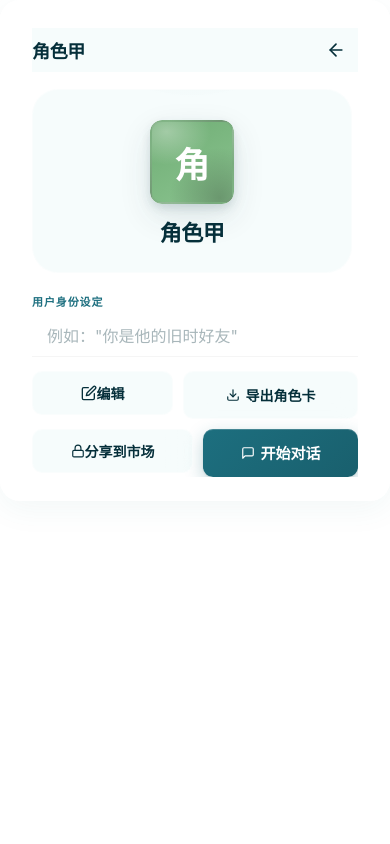
105：发布失败的文案要落到弹窗里 › 接口抛错（403）：显示 detail，弹窗仍在，没变成「已发布」
Click the button with id "card-share-btn".
click(112, 450)  # box [32,428,193,472]
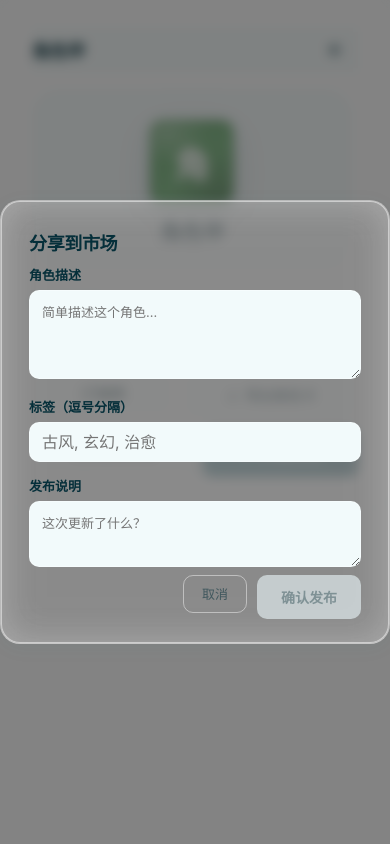
Type "首版说明" into the text box with placeholder "这次更新了什么？".
click(195, 534); type("首版说明")  # box [29,500,361,567]
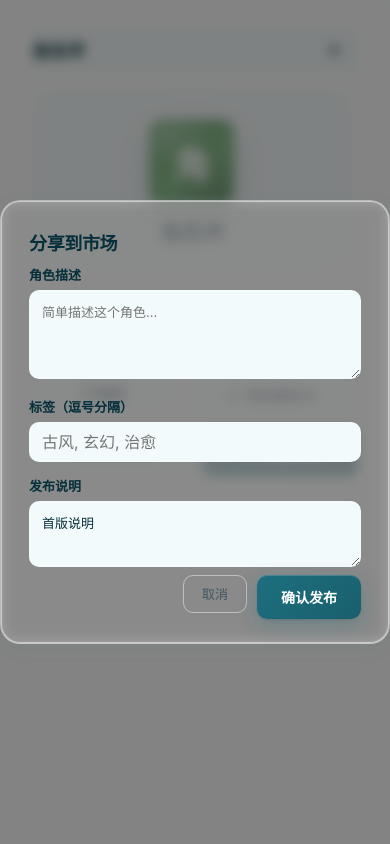
Click the button "确认发布".
click(309, 597)  # box [257,575,361,619]
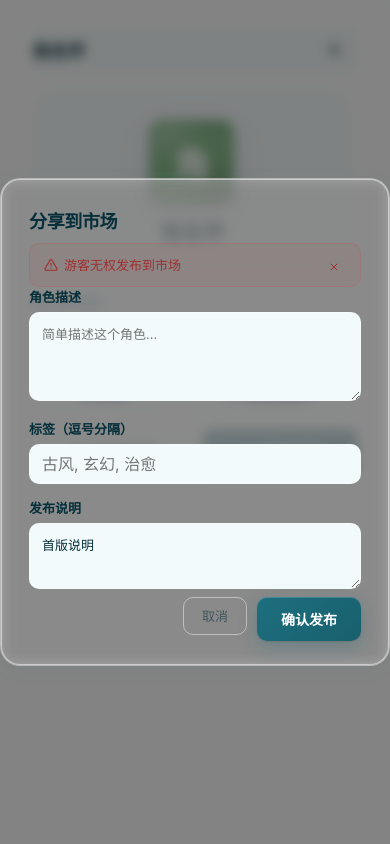
Expected: the element showing "游客无权发布到市场 角色描述 标签（逗号分隔） 发布说明" is shown, [1,239,389,593]
Expected: the element with class "error-box" is shown, [29,243,361,287]
Expected: the element with class "error-box" reads "游客无权发布到市场", [64,257,181,273]
